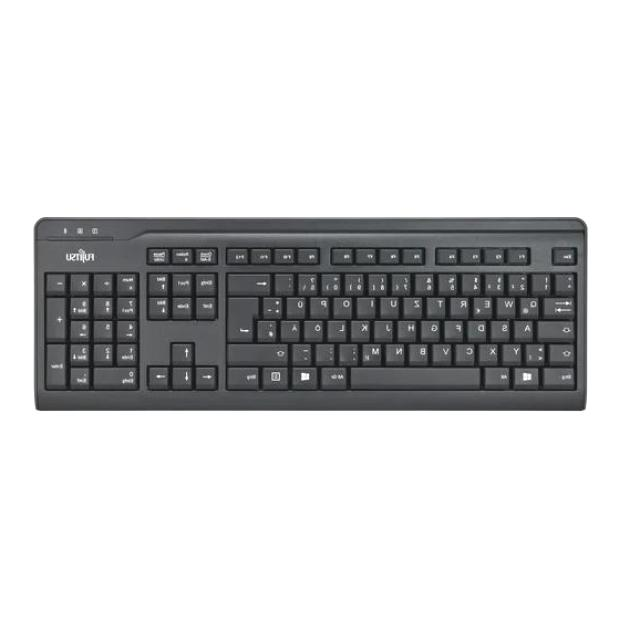0: (324, 270, 345, 292)
1: (535, 270, 554, 294)
2: (511, 270, 531, 292)
3: (487, 270, 507, 292)
4: (464, 272, 484, 293)
5: (441, 270, 461, 292)
6: (418, 270, 438, 292)
7: (394, 270, 414, 292)
8: (371, 270, 391, 292)
9: (347, 270, 368, 292)
a: (517, 318, 536, 339)
accent: (278, 272, 298, 293)
ae: (284, 318, 304, 339)
alt-left: (487, 364, 513, 386)
altgr-right: (324, 365, 350, 386)
b: (412, 340, 432, 361)
c: (459, 341, 479, 361)
caret: (558, 270, 579, 291)
comma: (342, 340, 362, 362)
d: (471, 318, 490, 339)
del: (231, 270, 275, 292)
e: (476, 294, 496, 316)
enter: (231, 292, 263, 340)
f: (447, 318, 466, 338)
g: (424, 318, 443, 339)
h: (400, 318, 420, 339)
hash: (260, 317, 280, 339)
i: (360, 295, 379, 316)
j: (377, 318, 397, 339)
k: (353, 318, 373, 339)
keyboard: (33, 216, 589, 411)
l: (330, 318, 350, 339)
less: (528, 340, 548, 362)
m: (365, 341, 385, 362)
minus: (296, 340, 316, 362)
n: (389, 341, 409, 361)
o: (337, 294, 356, 316)
oe: (307, 318, 327, 339)
p: (313, 294, 334, 316)
plus: (266, 293, 287, 317)
point: (319, 341, 339, 362)
q: (523, 295, 543, 316)
r: (453, 294, 473, 316)
s: (494, 318, 513, 339)
shift-left: (553, 341, 579, 361)
shift-lock: (541, 318, 577, 338)
shift-right: (231, 341, 292, 361)
space: (354, 365, 484, 386)
ss: (301, 272, 321, 293)
strg-left: (546, 365, 579, 386)
strg-right: (230, 363, 264, 387)
t: (430, 294, 450, 316)
tab: (546, 295, 578, 315)
u: (383, 294, 402, 316)
ue: (289, 293, 310, 317)
v: (435, 341, 455, 361)
w: (500, 294, 519, 315)
x: (482, 341, 501, 361)
y: (505, 341, 525, 361)
z: (407, 294, 427, 316)
